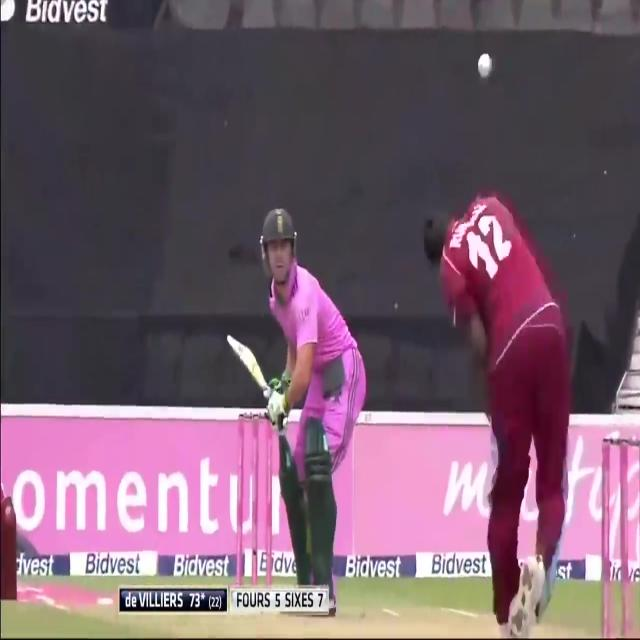Ball: (415, 23, 630, 626), (258, 206, 372, 617)
Batsman: (474, 45, 496, 85)
